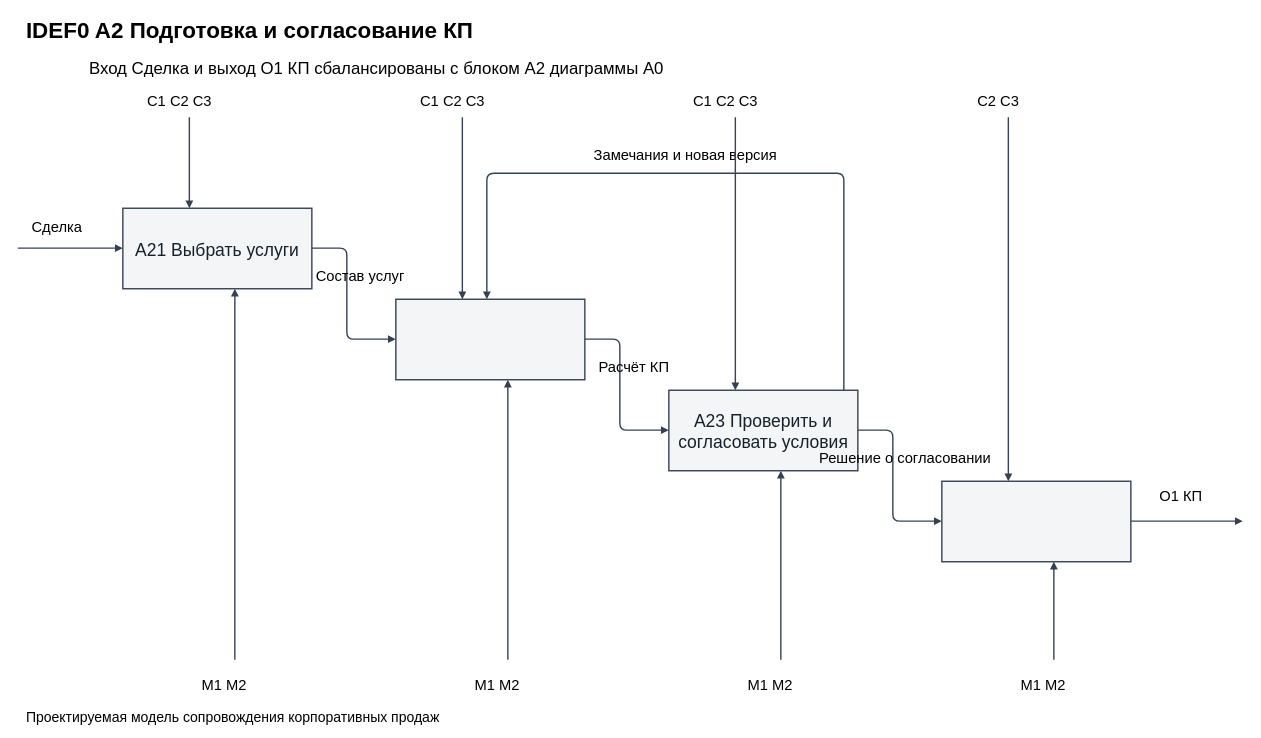
The diagram is 1261 pixels wide and 738 high, and some of its shapes have lost their labels. The shapes that lost their labels are listed below. From the top down, each one's centre as x and y in pixels, then its label:
the point at 490,339: A22 Рассчитать условия предложения
the point at 1036,521: A24 Зафиксировать согласованное КП
